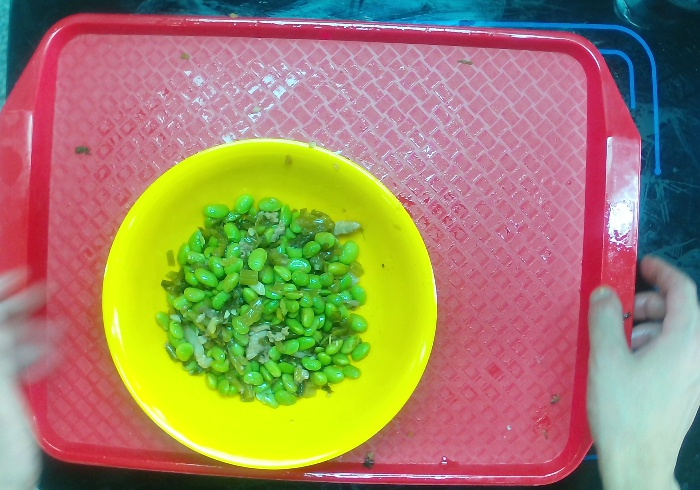YKMZ-Huang_Se_Tang_Wan: (97, 130, 449, 480)
